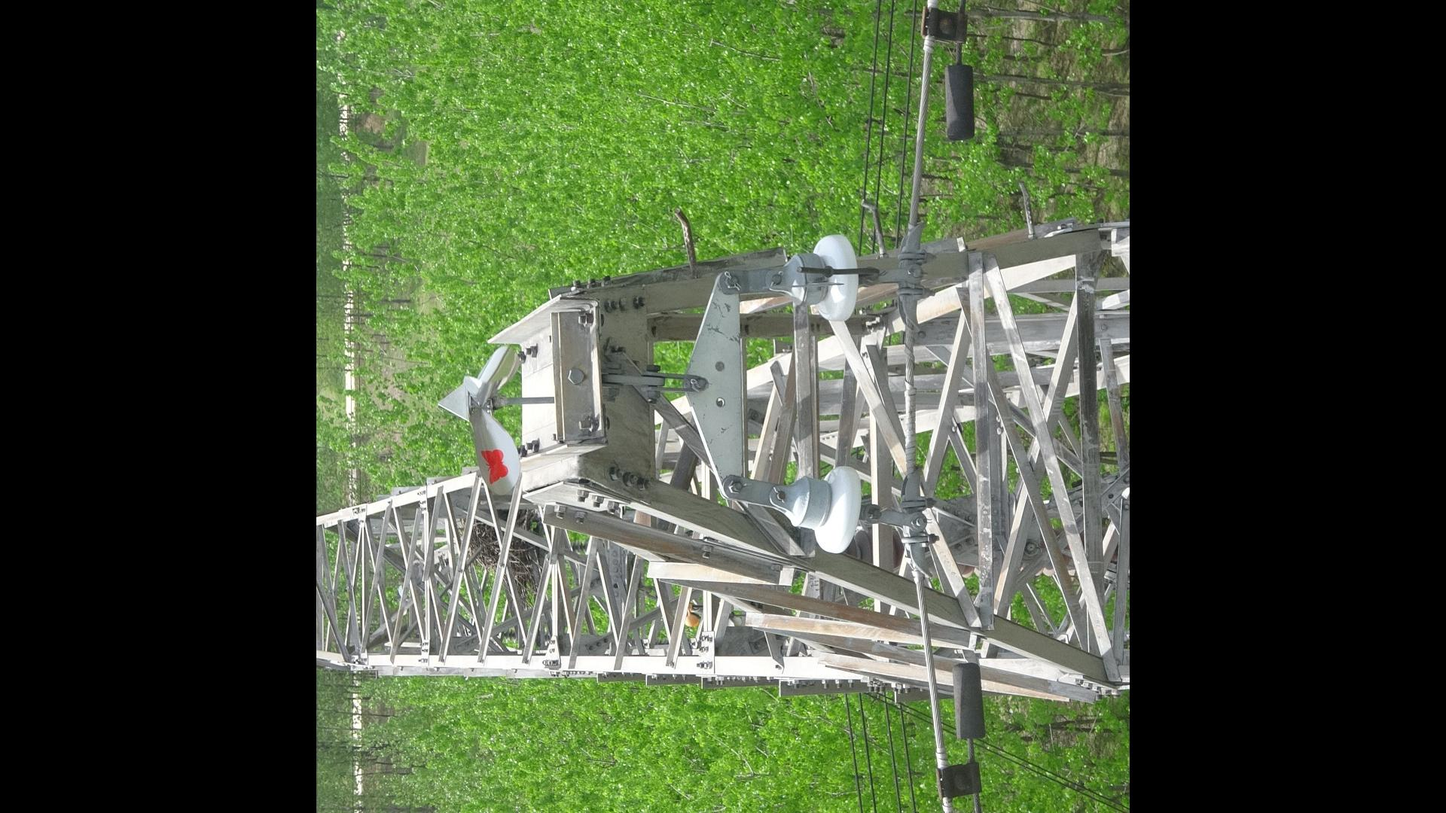nest: (466, 507, 545, 593)
